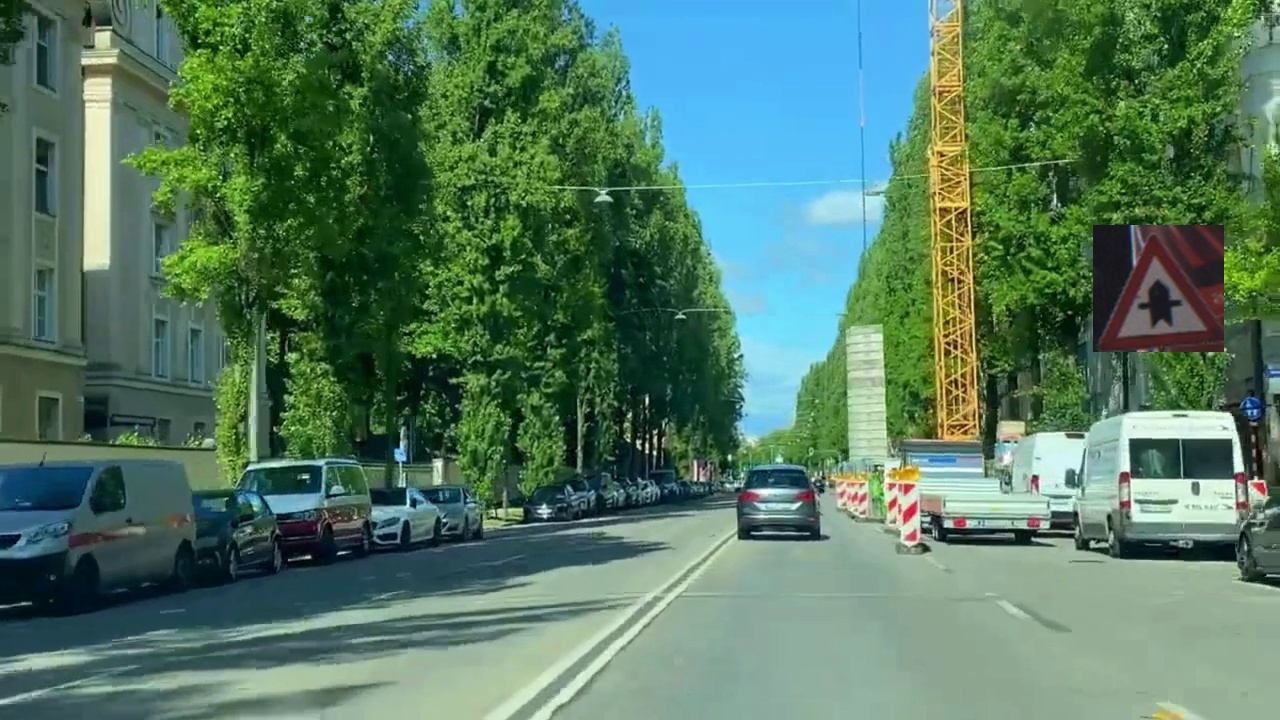Right-of-way: (1093, 225, 1224, 352)
